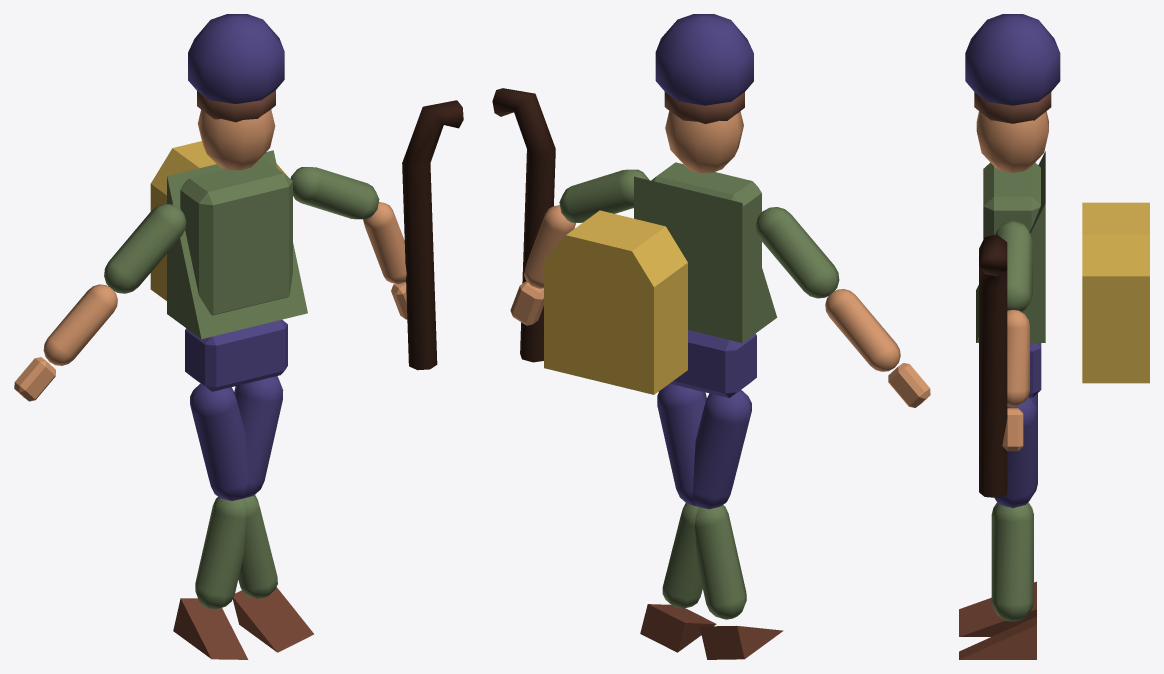
File: adventurer.rustic.glb
3 renders of one model, left to right at view 1: azimuth 30°, elevation 25°; view 2: azimuth 150°, elevation 25°; view 3: azimuth 270°, elevation 25°, orthographic.
Parts seen in each view (by area): view 1: torso, accessory.main-hand, accessory.head, tunic, pelvis, thigh.left, shin.right, upper-arm.left, thigh.right, head, upper-arm.right, forearm.left (+7 smaller); view 2: accessory.back, tunic, accessory.head, accessory.main-hand, thigh.left, shin.right, upper-arm.left, pelvis, thigh.right, head, forearm.left, upper-arm.right (+8 smaller); view 3: accessory.back, accessory.main-hand, accessory.head, shin.left, torso, head, thigh.right, tunic, upper-arm.right, forearm.right, foot.left, foot.right (+3 smaller).
Boxes of the visible parts, bbox=[...] form: torso: bbox=[180, 160, 292, 315]; accessory.main-hand: bbox=[402, 100, 463, 370]; accessory.head: bbox=[188, 14, 284, 103]; tunic: bbox=[167, 150, 307, 339]; pelvis: bbox=[185, 319, 287, 391]; thigh.left: bbox=[190, 383, 247, 500]; shin.right: bbox=[195, 497, 245, 609]; upper-arm.left: bbox=[104, 203, 186, 293]; thigh.right: bbox=[234, 376, 283, 498]; head: bbox=[197, 109, 275, 170]; upper-arm.right: bbox=[290, 167, 379, 219]; forearm.left: bbox=[43, 284, 117, 365]; accessory.back: bbox=[544, 210, 687, 394]; tunic: bbox=[634, 176, 777, 342]; accessory.head: bbox=[655, 14, 753, 105]; accessory.main-hand: bbox=[492, 88, 555, 362]; thigh.left: bbox=[693, 390, 751, 509]; shin.right: bbox=[695, 505, 746, 619]; upper-arm.left: bbox=[755, 207, 839, 298]; pelvis: bbox=[670, 330, 756, 398]; thigh.right: bbox=[657, 383, 706, 506]; head: bbox=[665, 111, 743, 172]; forearm.left: bbox=[825, 289, 900, 371]; upper-arm.right: bbox=[559, 169, 649, 222]; accessory.back: bbox=[1082, 202, 1149, 383]; accessory.main-hand: bbox=[979, 234, 1007, 497]; accessory.head: bbox=[965, 14, 1060, 105]; shin.left: bbox=[991, 503, 1033, 621]; torso: bbox=[983, 162, 1040, 239]; head: bbox=[976, 111, 1048, 172]; thigh.right: bbox=[994, 397, 1037, 508]; tunic: bbox=[976, 151, 1045, 342]; upper-arm.right: bbox=[994, 221, 1032, 312]; forearm.right: bbox=[1007, 310, 1029, 406]; foot.left: bbox=[959, 616, 1036, 659]; foot.right: bbox=[959, 581, 1036, 636].
Size of the model in its own units: 2.39 by 3.28 by 0.905.
